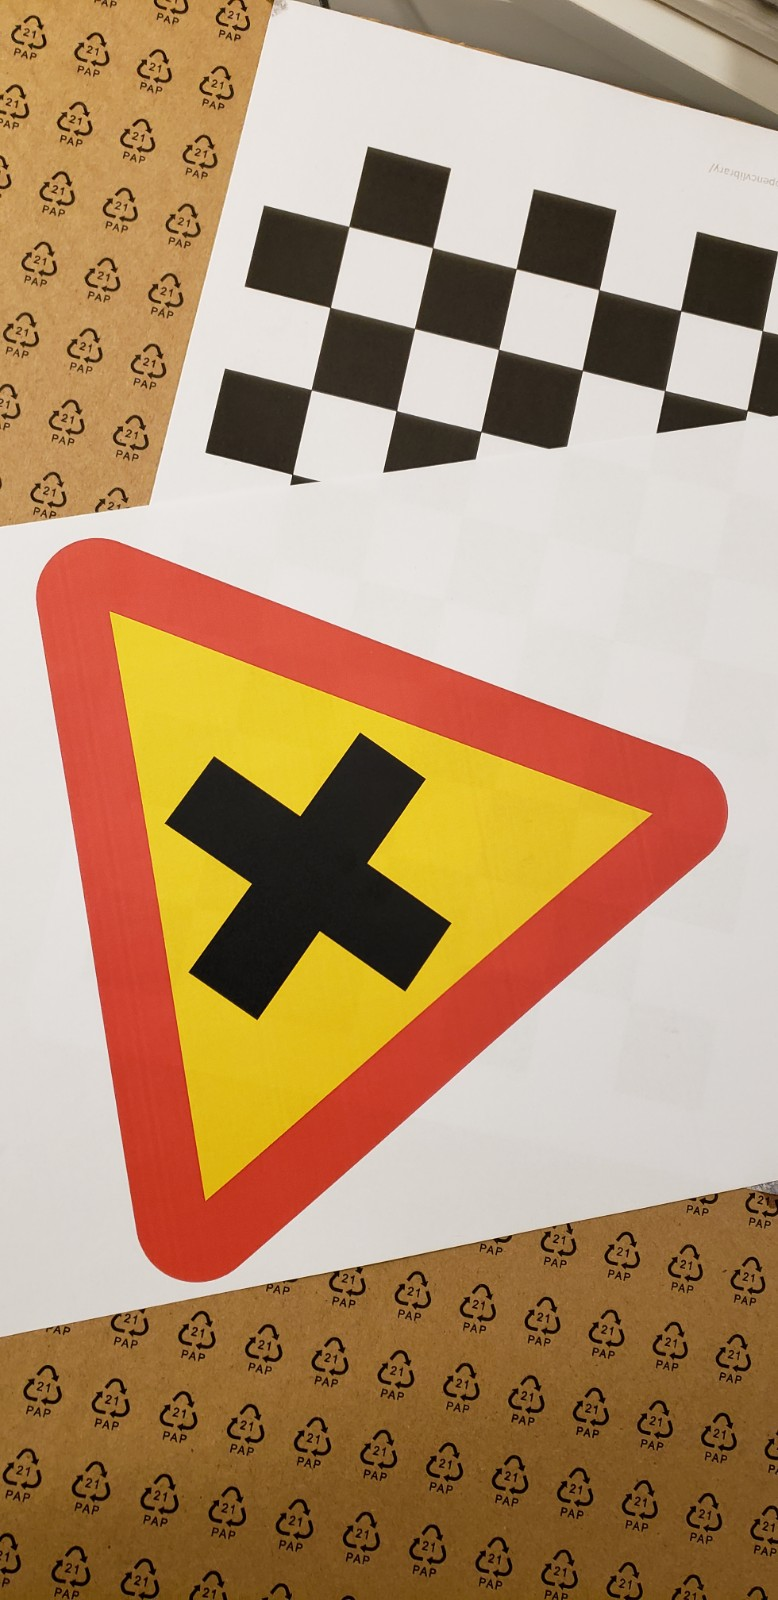junction: (13, 503, 777, 1377)
